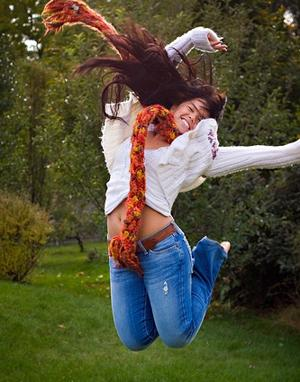person: (101, 25, 300, 348)
